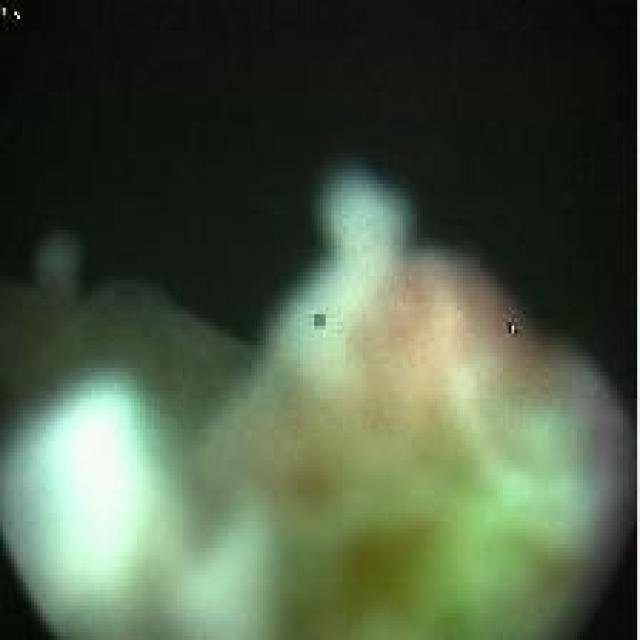blur: (3, 173, 630, 634)
color misalignment: (4, 4, 23, 33), (311, 308, 327, 332), (506, 319, 520, 340)
contrast: (8, 6, 636, 348)
saturation: (43, 391, 139, 580)
